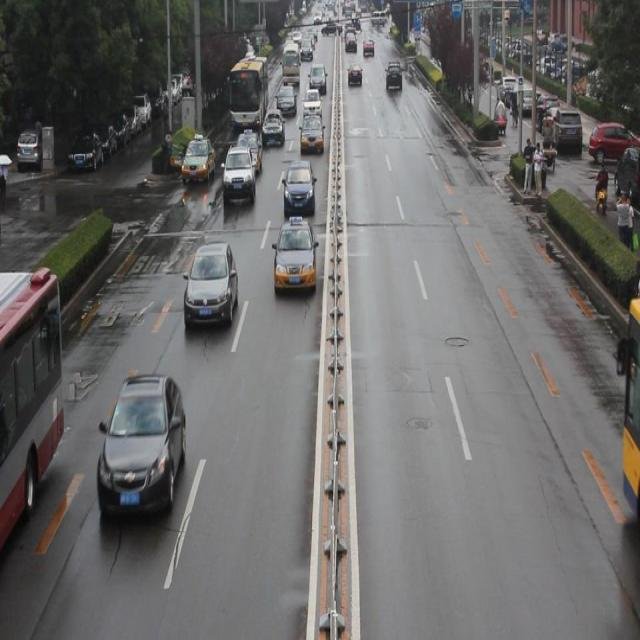car: (98, 374, 183, 518), (184, 244, 238, 326), (274, 219, 316, 291), (222, 146, 254, 201), (283, 161, 315, 214), (183, 134, 216, 184), (298, 113, 324, 154), (237, 130, 260, 176), (261, 106, 284, 146), (276, 83, 295, 116), (301, 89, 321, 120)
van: (0, 268, 64, 540), (230, 52, 267, 128)
